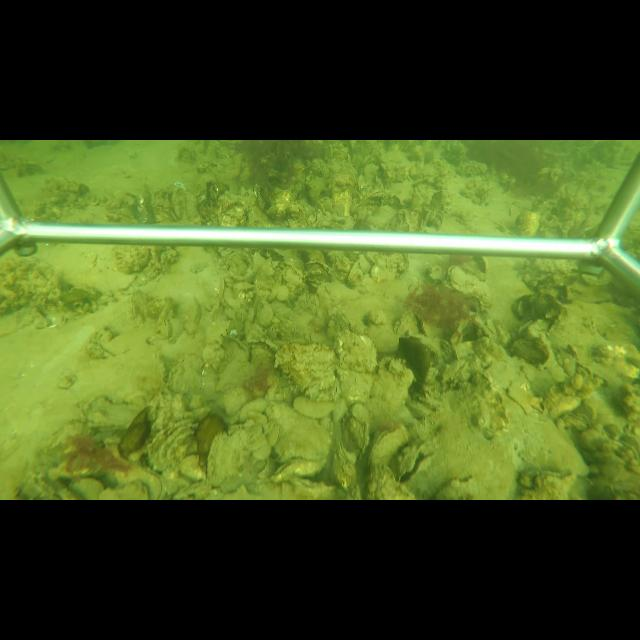Oyster-Closed: (205, 424, 256, 488), (145, 414, 199, 470), (333, 328, 378, 373), (401, 334, 439, 382), (369, 425, 410, 466), (445, 264, 491, 298), (328, 442, 359, 492), (270, 456, 324, 483), (288, 394, 335, 420), (127, 289, 148, 319), (346, 260, 365, 289), (185, 296, 201, 330), (421, 321, 433, 336)
Oyster-Open: (399, 441, 437, 486), (164, 184, 183, 221)
